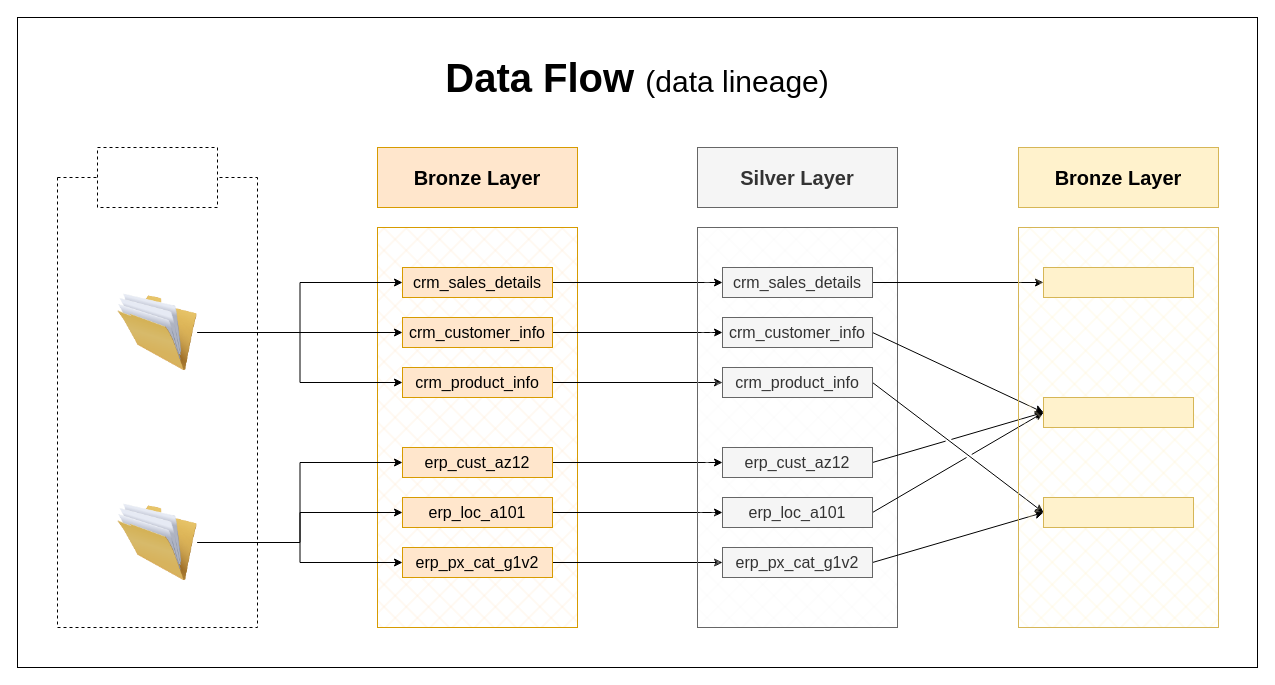
Some shapes in this 1275 by 685 pixel diagram are drawn without their labels. Here are the shapes that lost their labels. From the top down, the centre of each, then its label:
At point (157, 177): "Sources".
At point (1118, 282): "fact_sales".
At point (157, 332): "CRM".
At point (1118, 412): "dim_customers".
At point (1118, 512): "dim_products".
At point (157, 542): "ERP".
